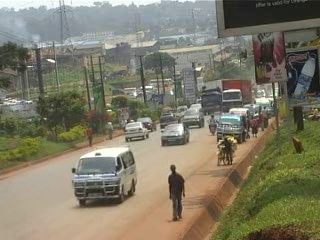Car: (158, 120, 191, 148), (120, 120, 152, 143), (181, 108, 206, 130), (159, 111, 181, 129), (135, 115, 157, 132), (189, 102, 205, 114)
Motorcycle: (205, 117, 218, 136)
